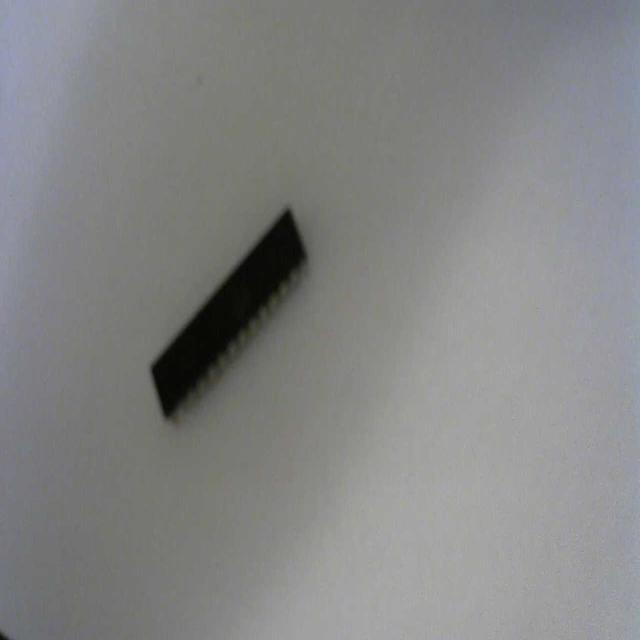atmega: (148, 202, 310, 424)
